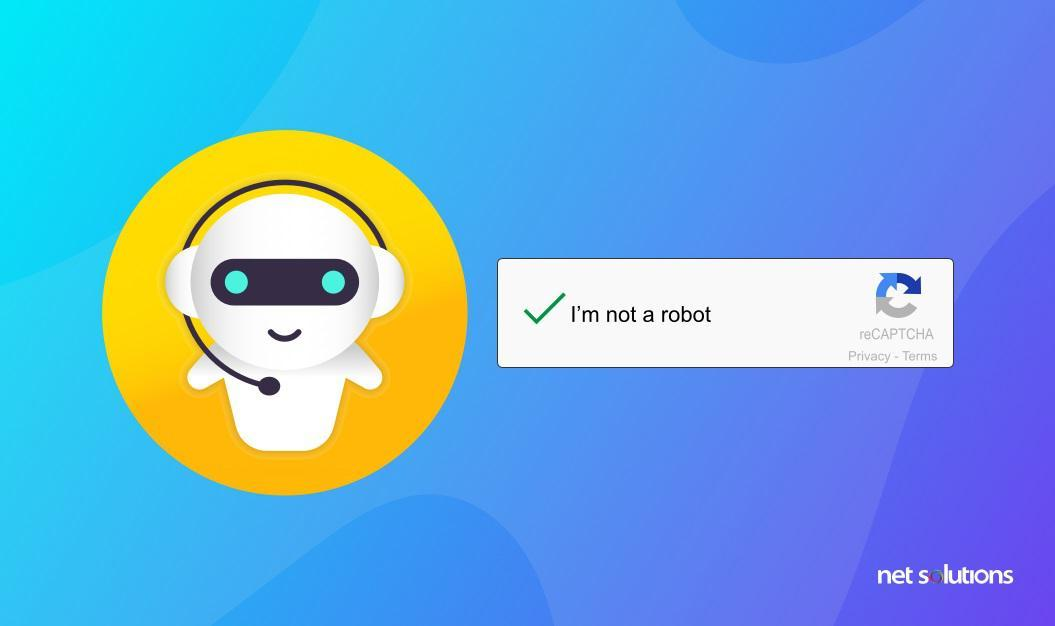icon: (518, 292, 568, 332)
label: (569, 303, 717, 329)
